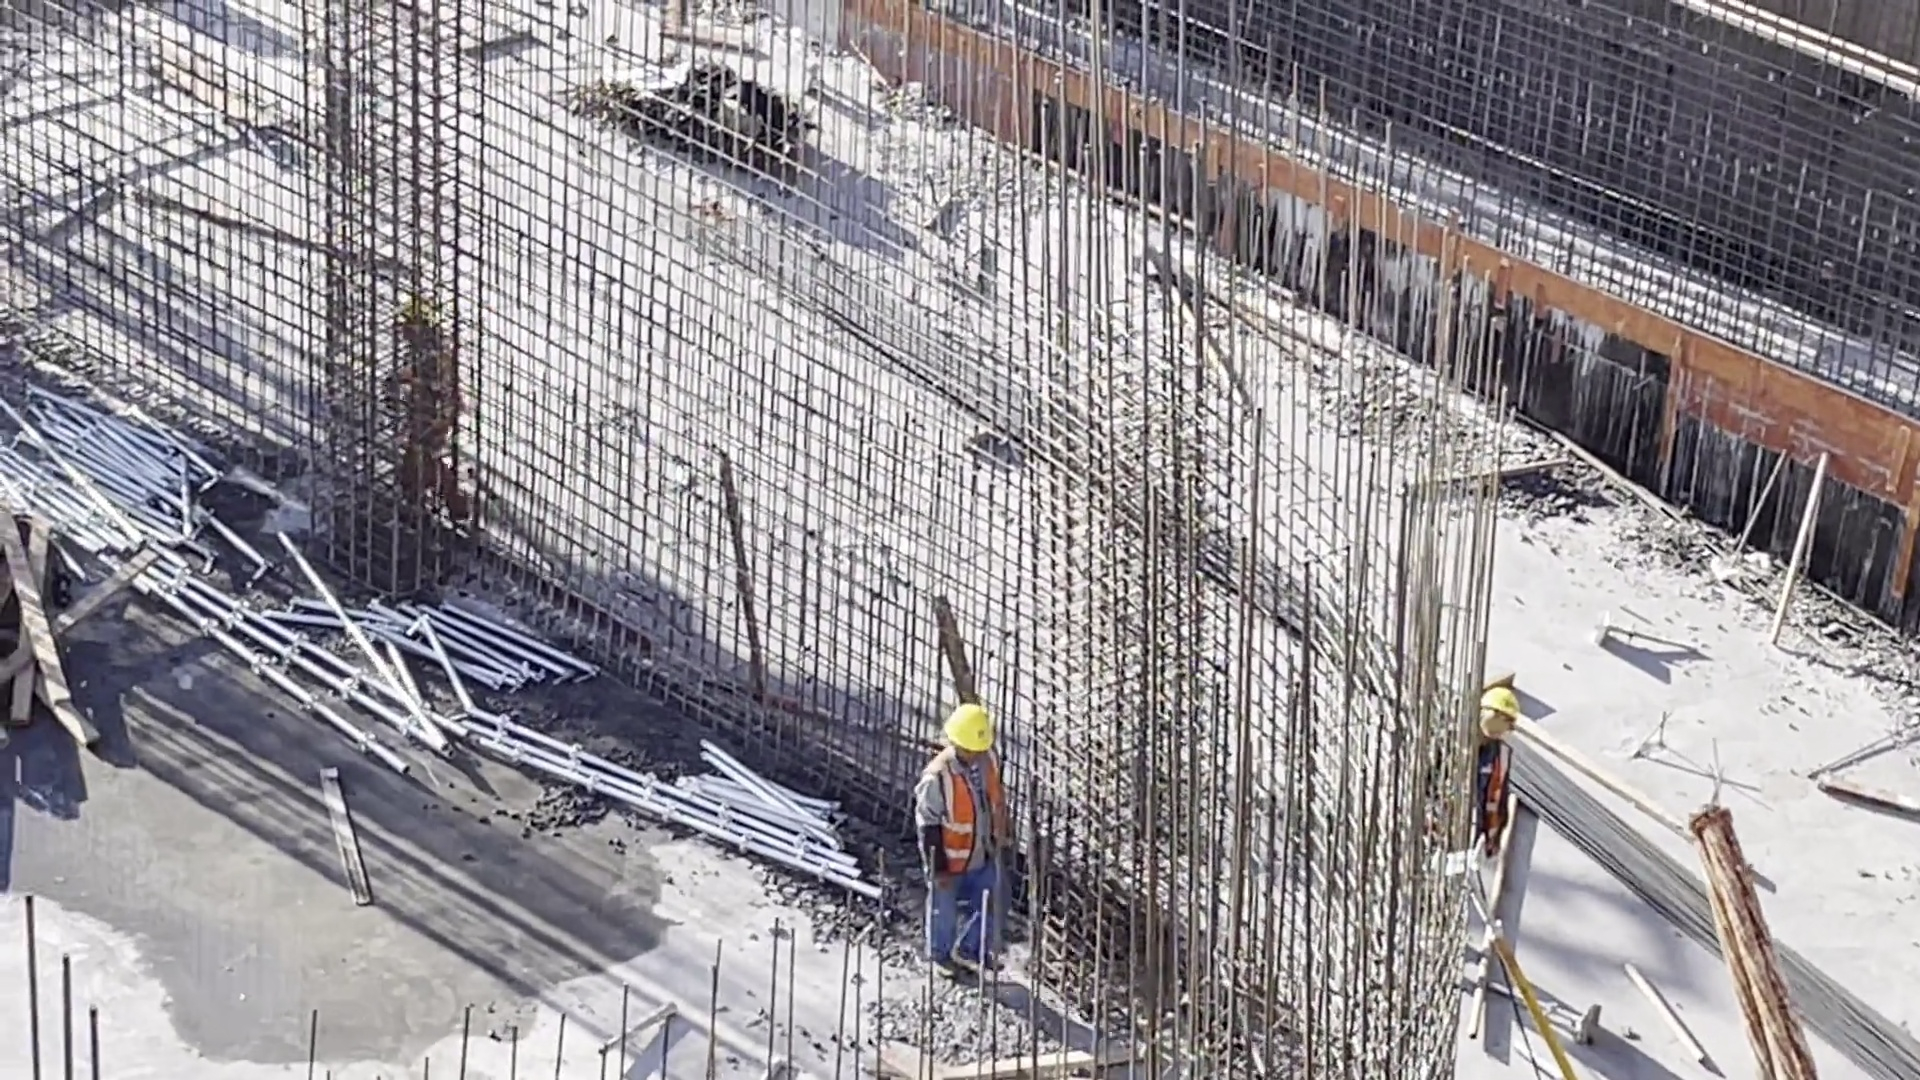helmet: (943, 702, 1001, 758), (1463, 685, 1525, 731)
person: (907, 694, 1055, 971), (378, 315, 499, 545), (1427, 684, 1542, 873)
rebar: (1525, 759, 1898, 1080)
scaffold: (291, 592, 568, 761), (7, 404, 213, 590), (677, 756, 877, 922)
vest: (917, 762, 1010, 877), (393, 355, 481, 454), (1470, 739, 1520, 840)
